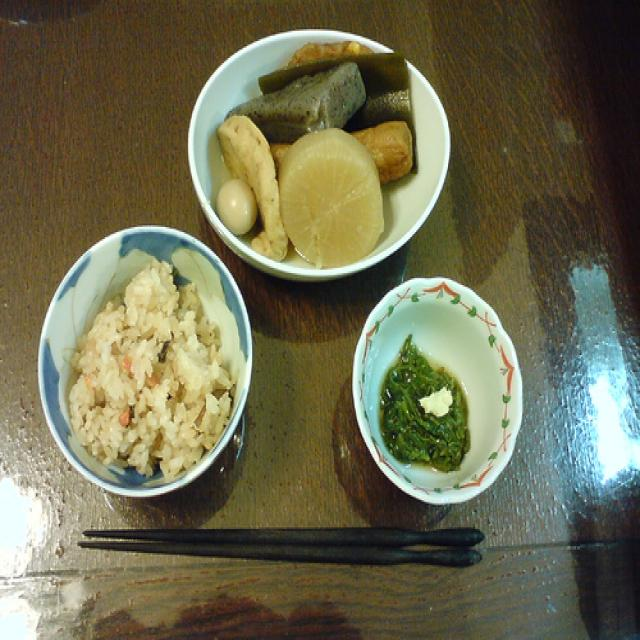汤锅炖物: (211, 38, 420, 264)
